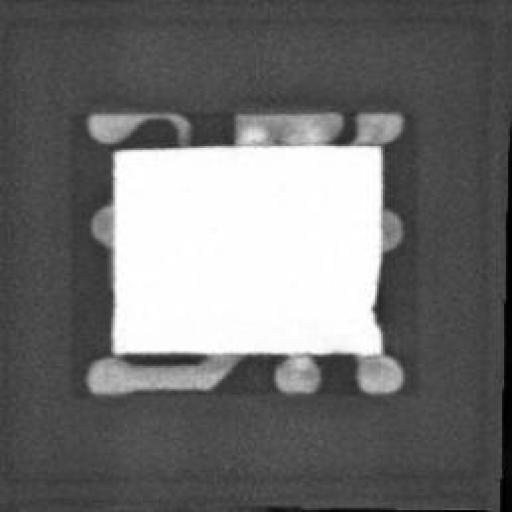DIE_BROKEN: (365, 258, 383, 326)
